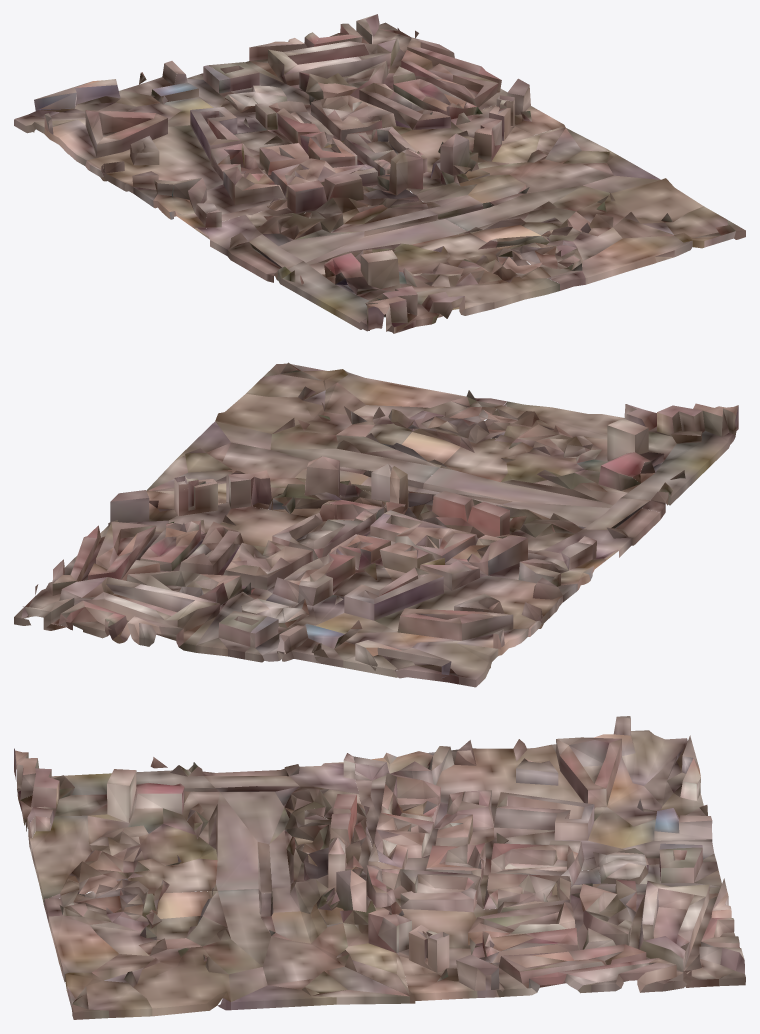
3 views of the same model, one above another, from view 1: azimuth 30°, elevation 25°; view 2: azimuth 150°, elevation 25°; view 3: azimuth 270°, elevation 25° (orthographic). The views are drawn at different scales.
Parts seen in each view (by area): view 1: Mesh_0; view 2: Mesh_0; view 3: Mesh_0.
Part boxes in pixels (x1,y1,x2,y2): Mesh_0: [14, 14, 745, 333]; Mesh_0: [14, 362, 738, 687]; Mesh_0: [14, 716, 745, 1019].
Bounding box in the file's own units: 533 × 61.92 × 660.
Materials: 2 (2 with a texture image).
